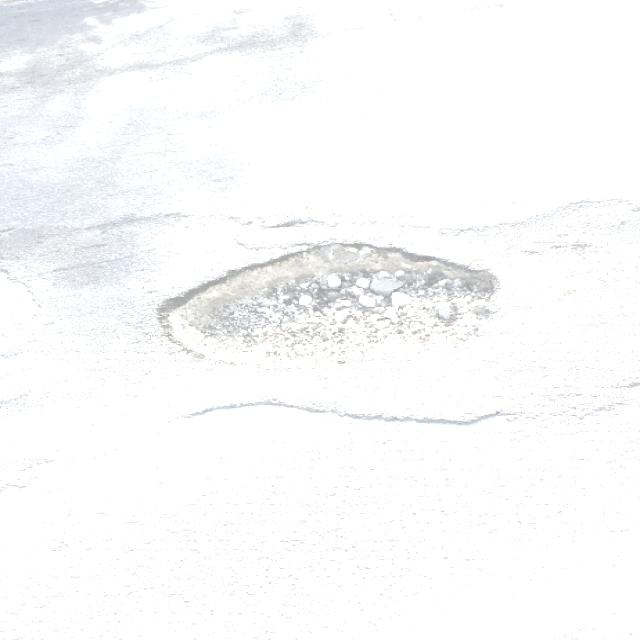Pothole: (12, 206, 640, 412)
